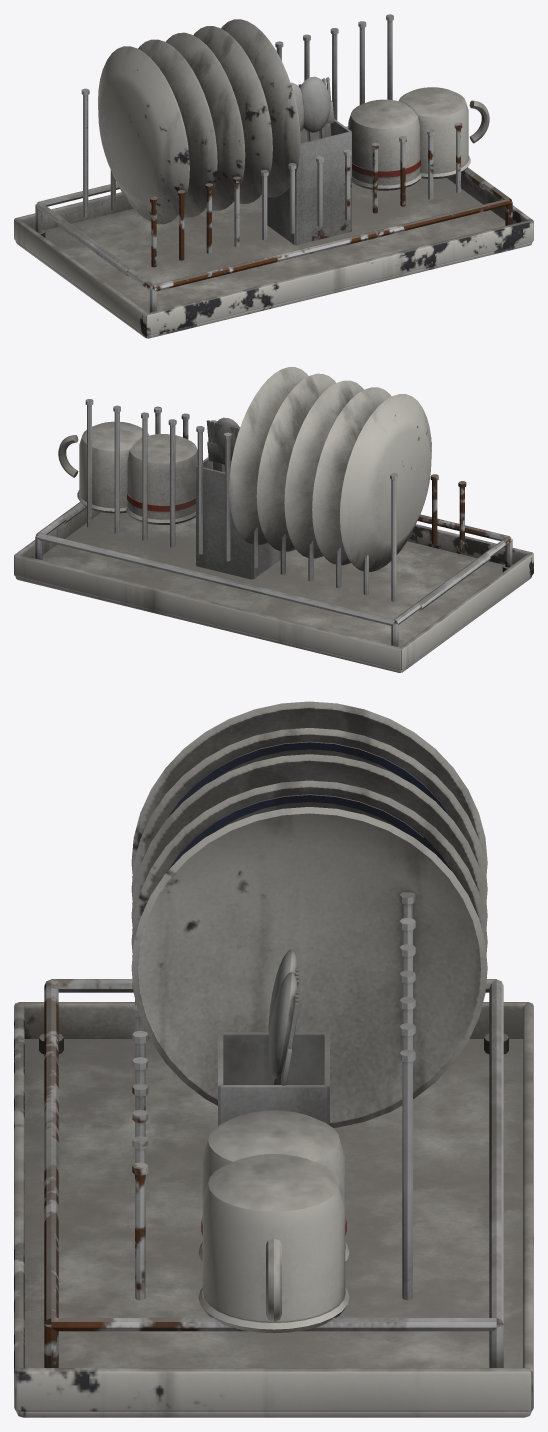
The model's file is SM_DishRack.fbx.
3 views of the same model, one above another, from view 1: azimuth 30°, elevation 25°; view 2: azimuth 150°, elevation 25°; view 3: azimuth 270°, elevation 25° (orthographic). The views are drawn at different scales.
Visible parts, largest first — view 1: SM_DishRack; view 2: SM_DishRack; view 3: SM_DishRack.
Part boxes in pixels (x1,y1,x2,y2): SM_DishRack: (14,14,533,338); SM_DishRack: (14,367,533,672); SM_DishRack: (14,701,533,1417).
Size of the model in its own units: 0.5182 by 0.26 by 0.292.
Materials: 1 (1 with a texture image).
